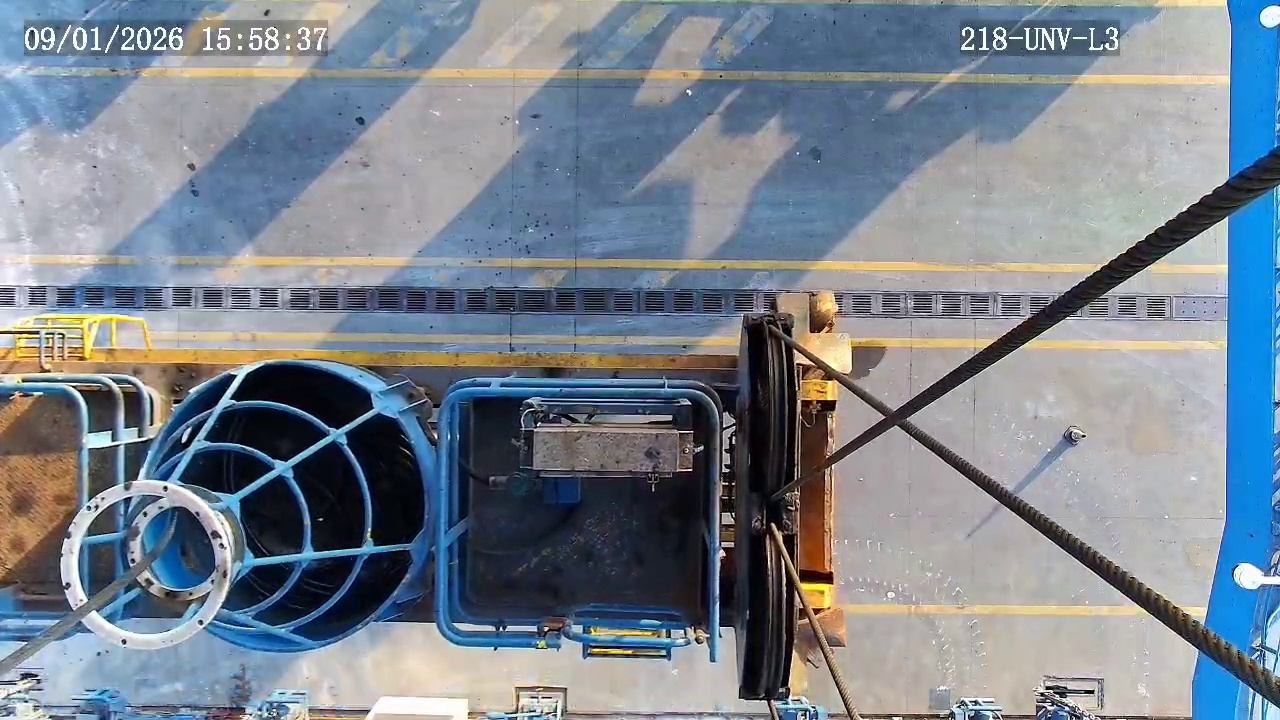right: (59, 480, 229, 652)
